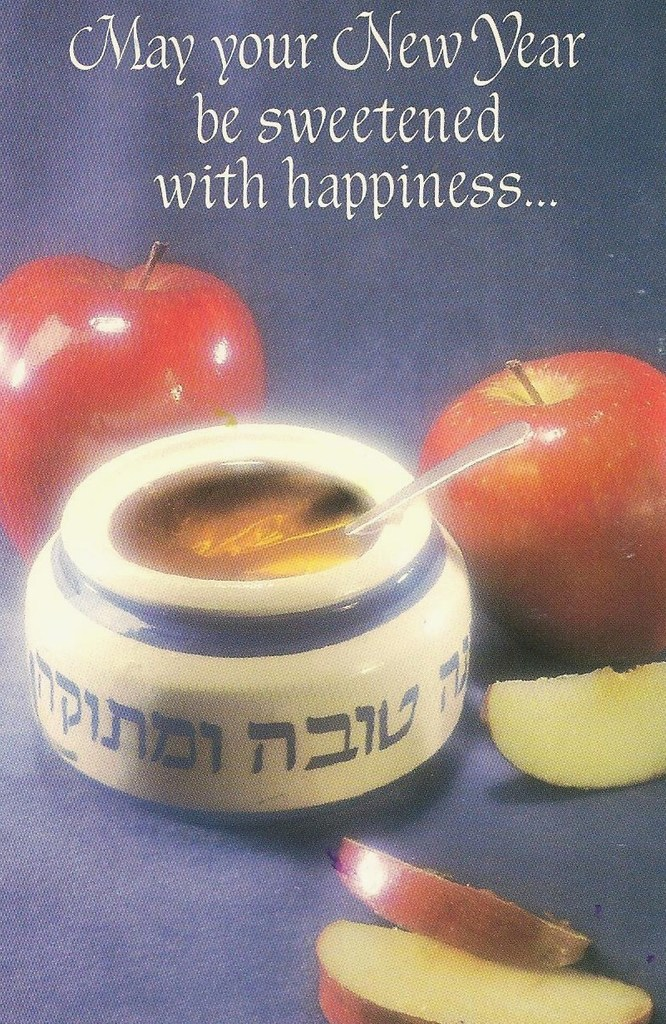Apple: (413, 347, 663, 661), (21, 242, 273, 544), (309, 917, 652, 1023), (331, 832, 587, 969), (474, 651, 665, 791)
